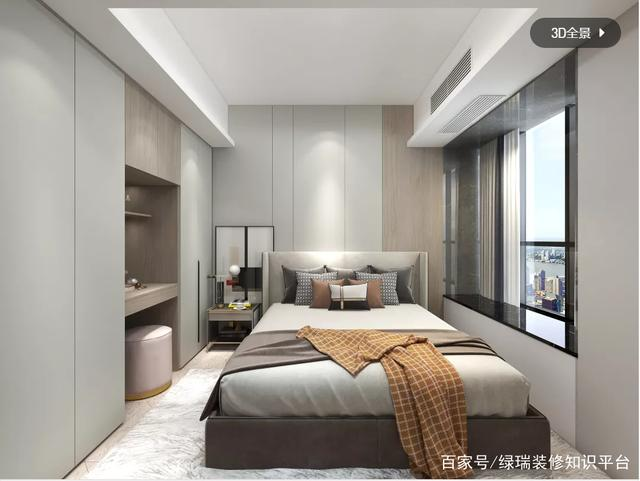床: (209, 307, 535, 469)
枕头: (294, 264, 407, 313)
灯: (227, 261, 256, 308)
